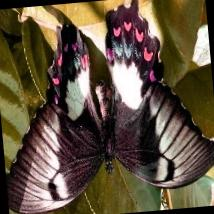butterfly: (6, 0, 214, 214)
